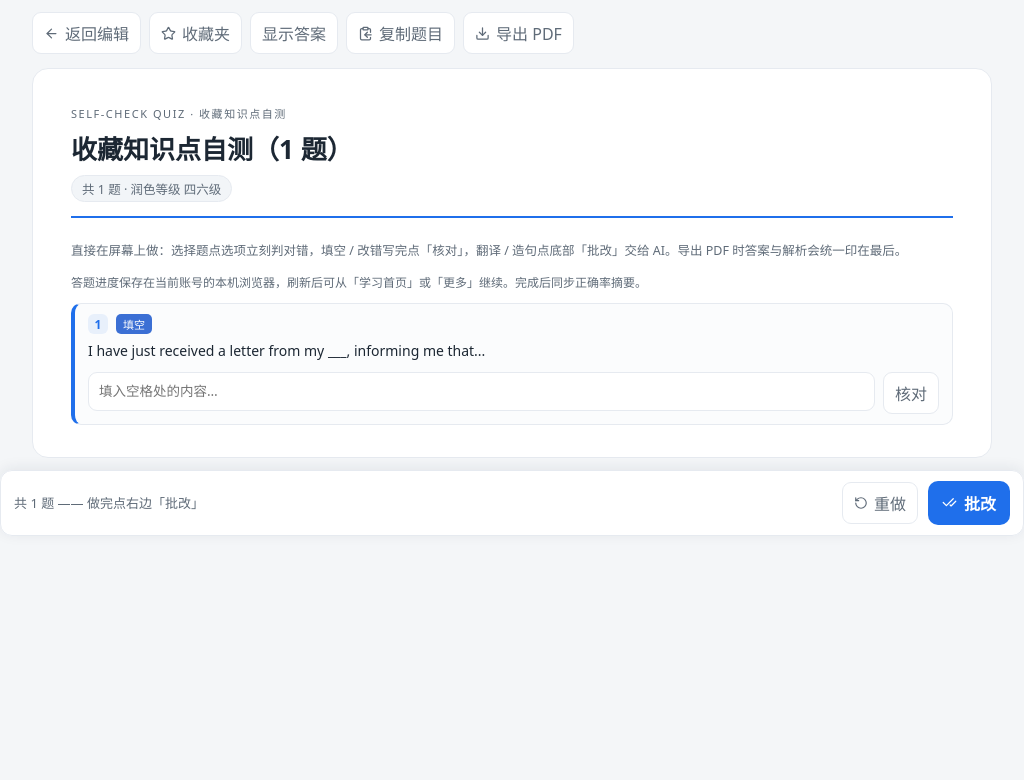
Test: 填空 / 改错：写完点「核对」 › 填空写对 → 对；没写时核对按钮不可点
The image size is (1024, 780).
Expected: the button "核对" is disabled, [883,372,939,414]
Step 1. Type "Old School." into the field with placeholder "填入空格处的内容…" → point(482, 391), box [88,372,875,411]
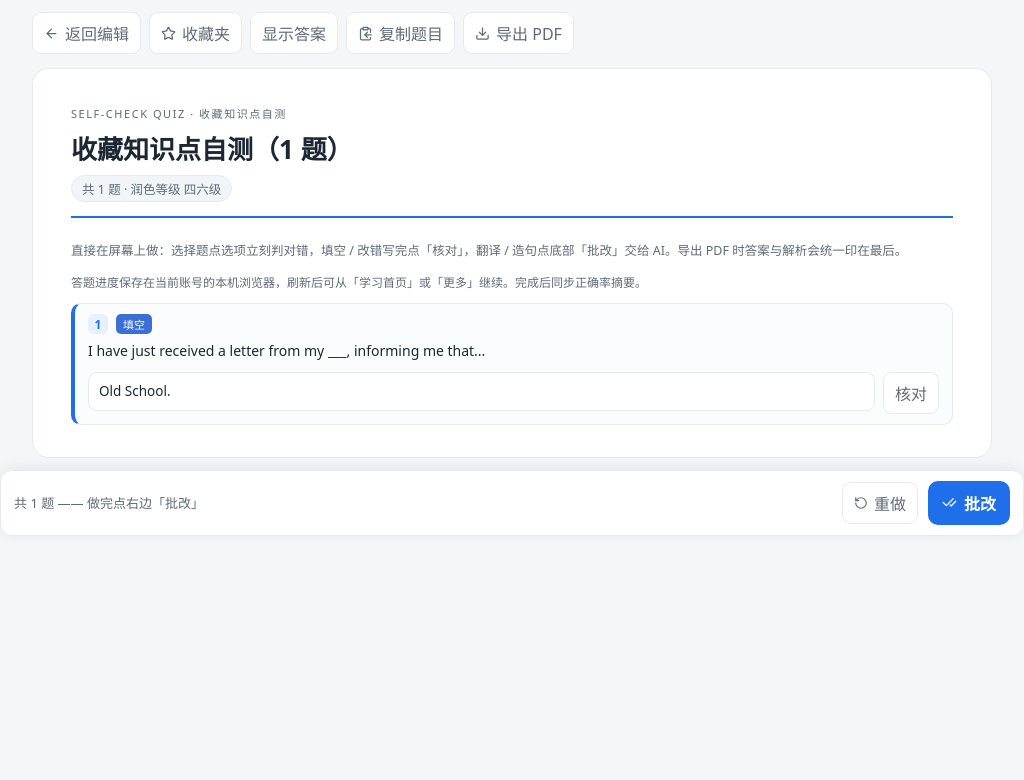
Step 2. Click the button "核对" → point(911, 392), box [883,372,939,414]
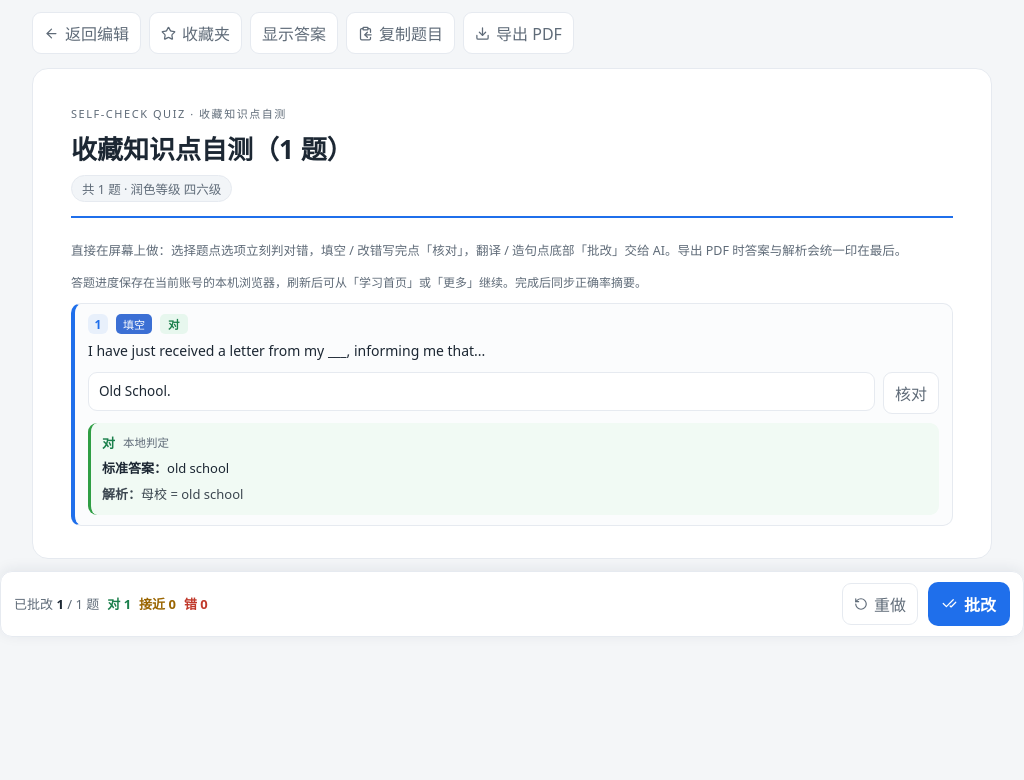
Expected: the element with class "right" that starts with "本地判定" is shown, [88,422,939,515]
